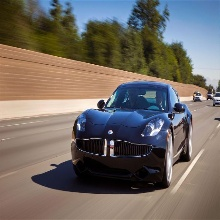no damage: (71, 80, 195, 188)
